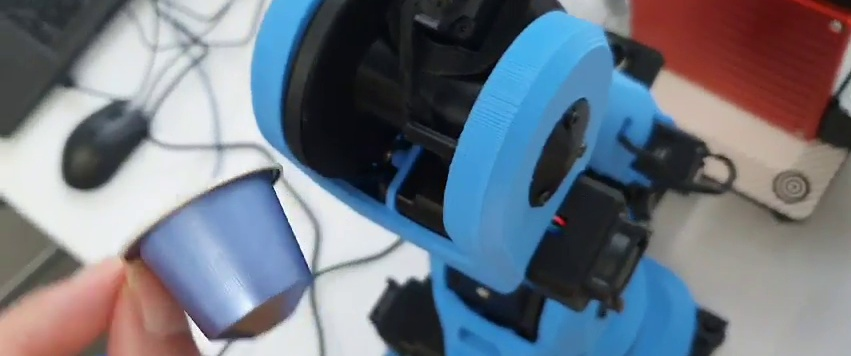capsule_7: (117, 161, 316, 342)
